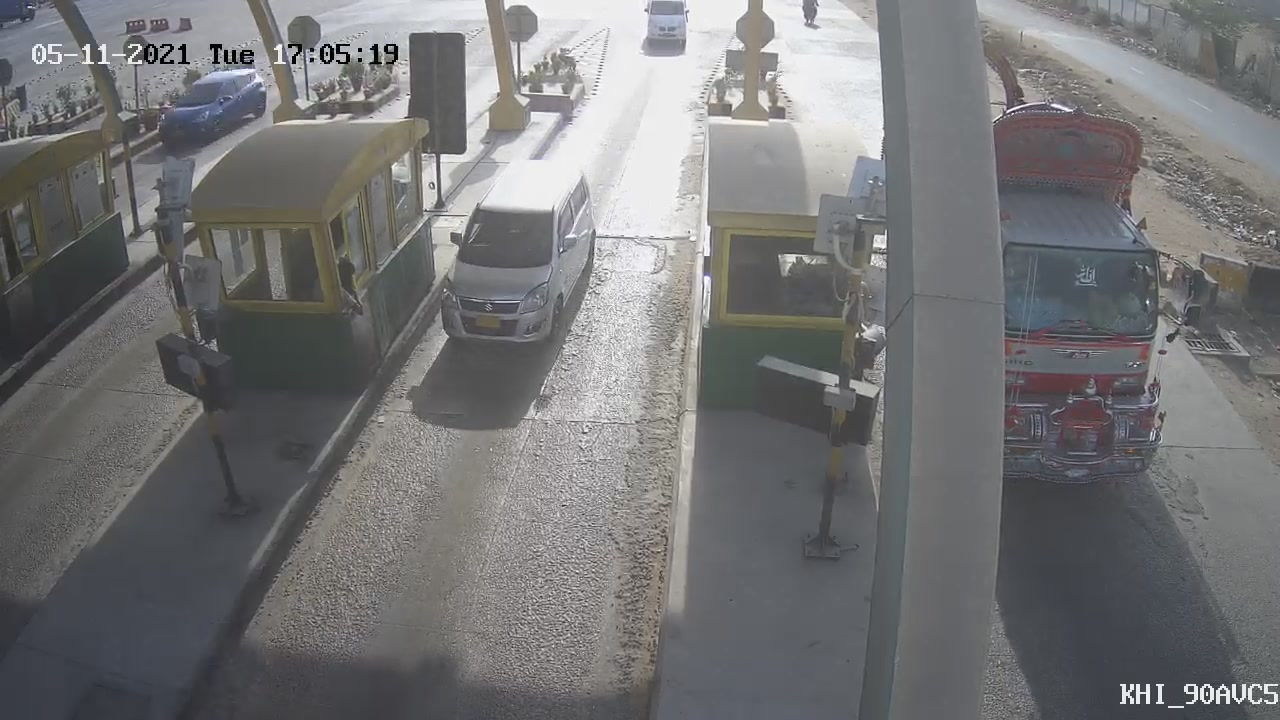F1: (409, 145, 618, 368)
